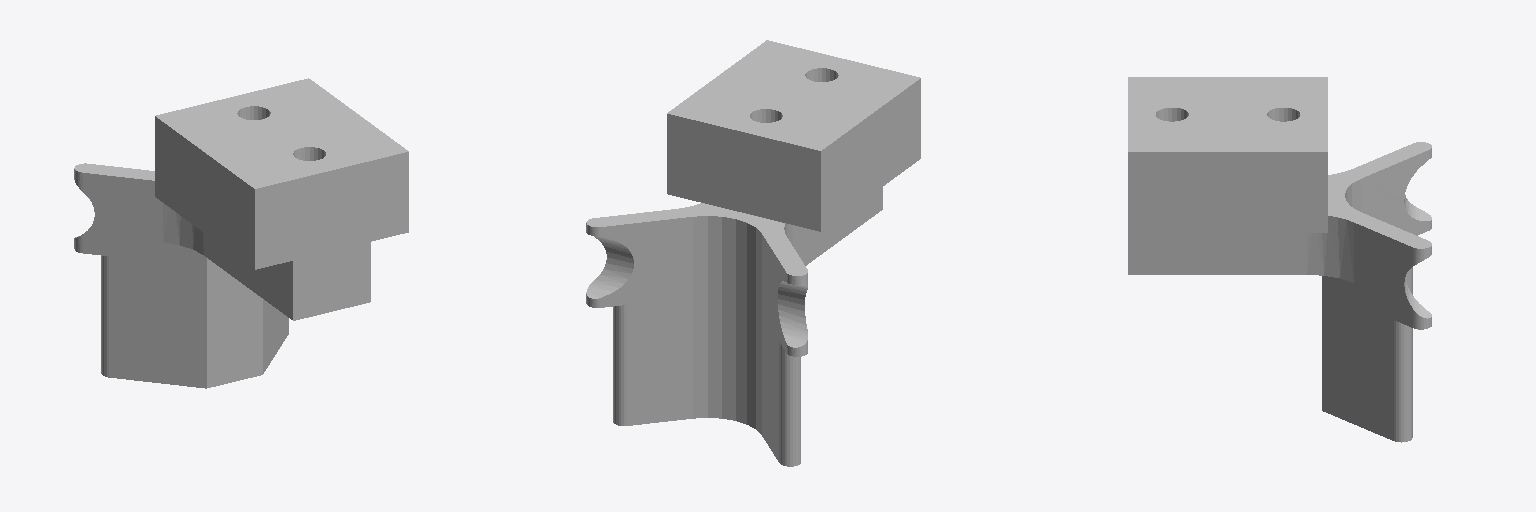
The model's file is g_fing_negx.obj.
3 views of the same model, side by side, from view 1: azimuth 30°, elevation 25°; view 2: azimuth 150°, elevation 25°; view 3: azimuth 270°, elevation 25° (orthographic).
Size of the model in its own units: 0.0227 by 0.028 by 0.0273.